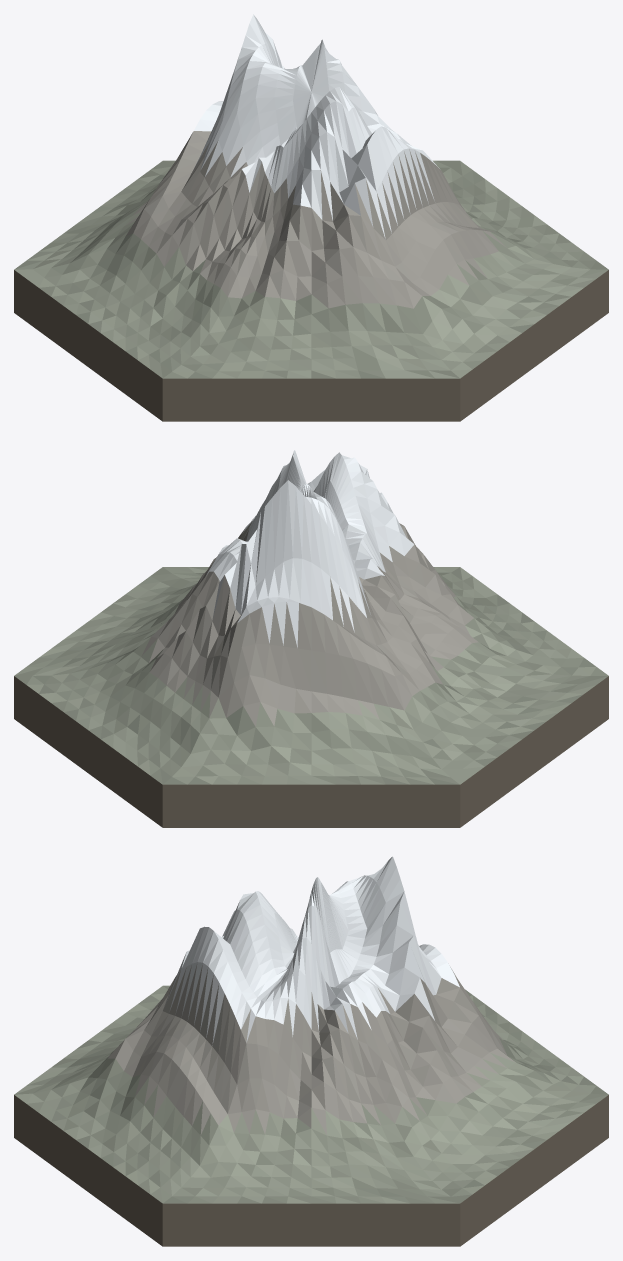
The model's file is TERRAIN_TUNDRA_MOUNTAIN_v02.fbx.
3 renders of one model, top to bottom at view 1: azimuth 30°, elevation 25°; view 2: azimuth 150°, elevation 25°; view 3: azimuth 270°, elevation 25°, orthographic.
Parts seen in each view (by area): view 1: TERRAIN_TUNDRA_MOUNTAIN_v02; view 2: TERRAIN_TUNDRA_MOUNTAIN_v02; view 3: TERRAIN_TUNDRA_MOUNTAIN_v02.
Boxes of the visible parts, box(x1,y1,x2,y2) form: TERRAIN_TUNDRA_MOUNTAIN_v02: box(14, 14, 608, 421); TERRAIN_TUNDRA_MOUNTAIN_v02: box(14, 450, 608, 827); TERRAIN_TUNDRA_MOUNTAIN_v02: box(14, 856, 608, 1246).
Size of the model in its own units: 173 by 101 by 200.
